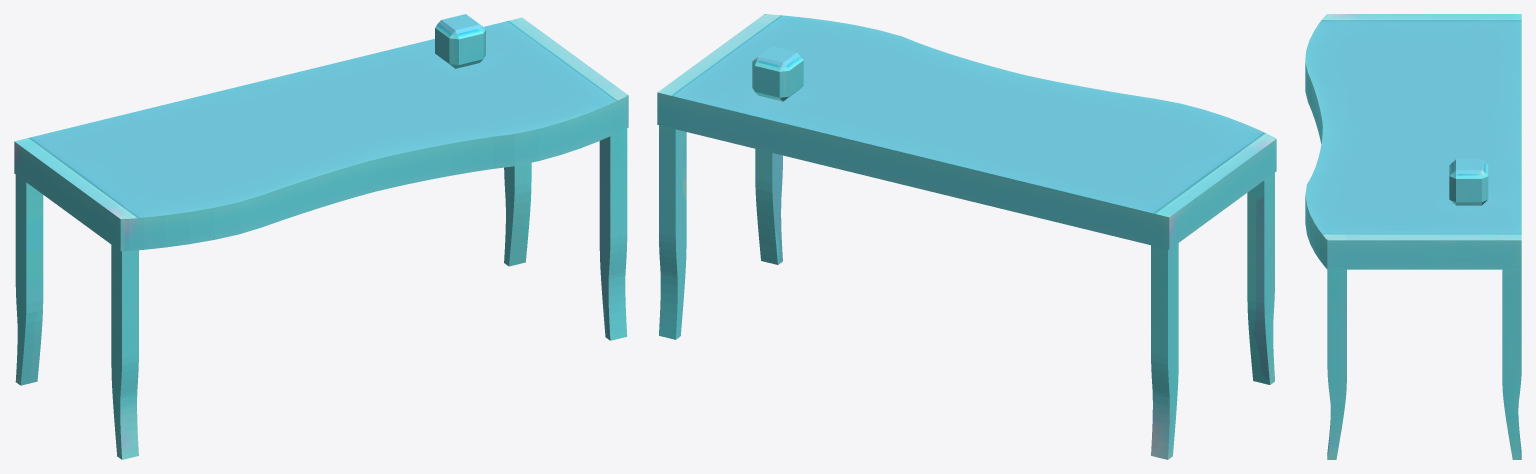
File: edited_mesh.glb
3 views of the same model, side by side, from view 1: azimuth 30°, elevation 25°; view 2: azimuth 150°, elevation 25°; view 3: azimuth 270°, elevation 25° (orthographic). The views are drawn at different scales.
Parts seen in each view (by area): view 1: solid_001_wire; view 2: solid_001_wire; view 3: solid_001_wire.
Part boxes in pixels (left/top/right/bottom): solid_001_wire: left=14, top=14, right=628, bottom=459; solid_001_wire: left=657, top=14, right=1276, bottom=459; solid_001_wire: left=1305, top=14, right=1521, bottom=459.
Bounding box in the file's own units: 1.95 × 1.03 × 0.7881.
1 material, 1 textured.
